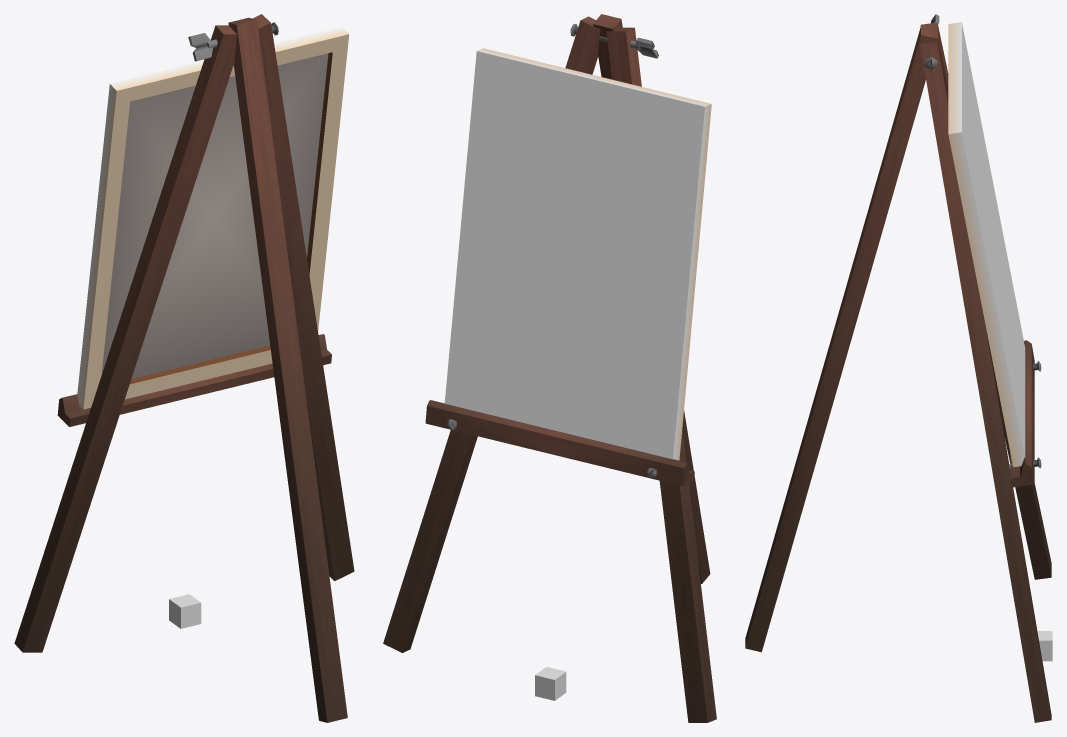
Rendered from Eisel.glb.
The picture shows the model from 3 angles, left to right: view 1: azimuth 30°, elevation 25°; view 2: azimuth 150°, elevation 25°; view 3: azimuth 270°, elevation 25°; orthographic projection. The views are drawn at different scales.
Parts seen in each view (by area): view 1: AdjsutScrew, MIRRORCUBE; view 2: AdjsutScrew, MIRRORCUBE; view 3: AdjsutScrew.
Part boxes in pixels (box(x1,y1,x2,y2)): AdjsutScrew: box(14, 14, 354, 722); MIRRORCUBE: box(169, 594, 201, 628); AdjsutScrew: box(383, 14, 716, 722); MIRRORCUBE: box(535, 667, 566, 700); AdjsutScrew: box(745, 14, 1051, 722).
Size of the model in its own units: 3.16 by 5.86 by 2.61.
3 materials, 1 textured.
